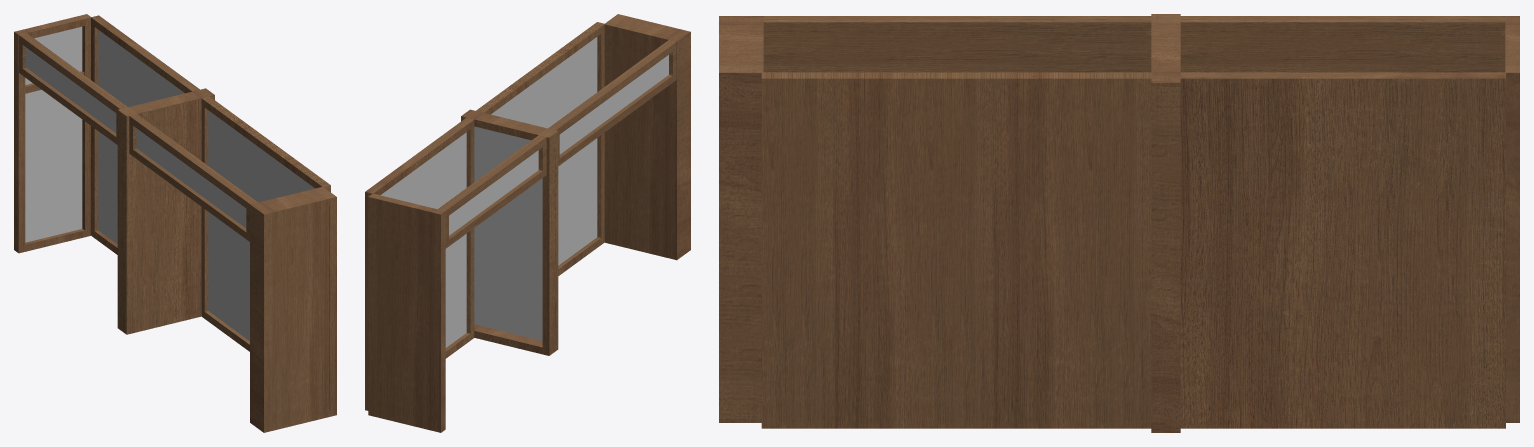
Rendered from Wall 1.FBX.
3 renders of one model, left to right at view 1: azimuth 30°, elevation 25°; view 2: azimuth 150°, elevation 25°; view 3: azimuth 270°, elevation 25°, orthographic. The views are drawn at different scales.
Parts seen in each view (by area): view 1: wall 1; view 2: wall 1; view 3: wall 1.
Part boxes in pixels (x1,y1,x2,y2): wall 1: [14, 14, 336, 432]; wall 1: [365, 14, 690, 432]; wall 1: [719, 14, 1519, 432].
Size of the model in its own units: 113 by 268 by 556.
